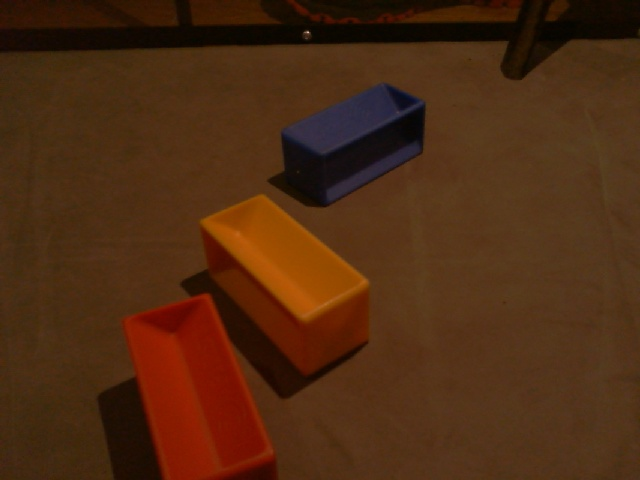BlueSample: (278, 81, 426, 205)
RedSample: (118, 291, 282, 478)
YellowSample: (198, 193, 375, 380)
